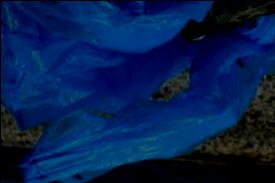Plastic: (15, 15, 274, 181), (1, 1, 214, 130)
